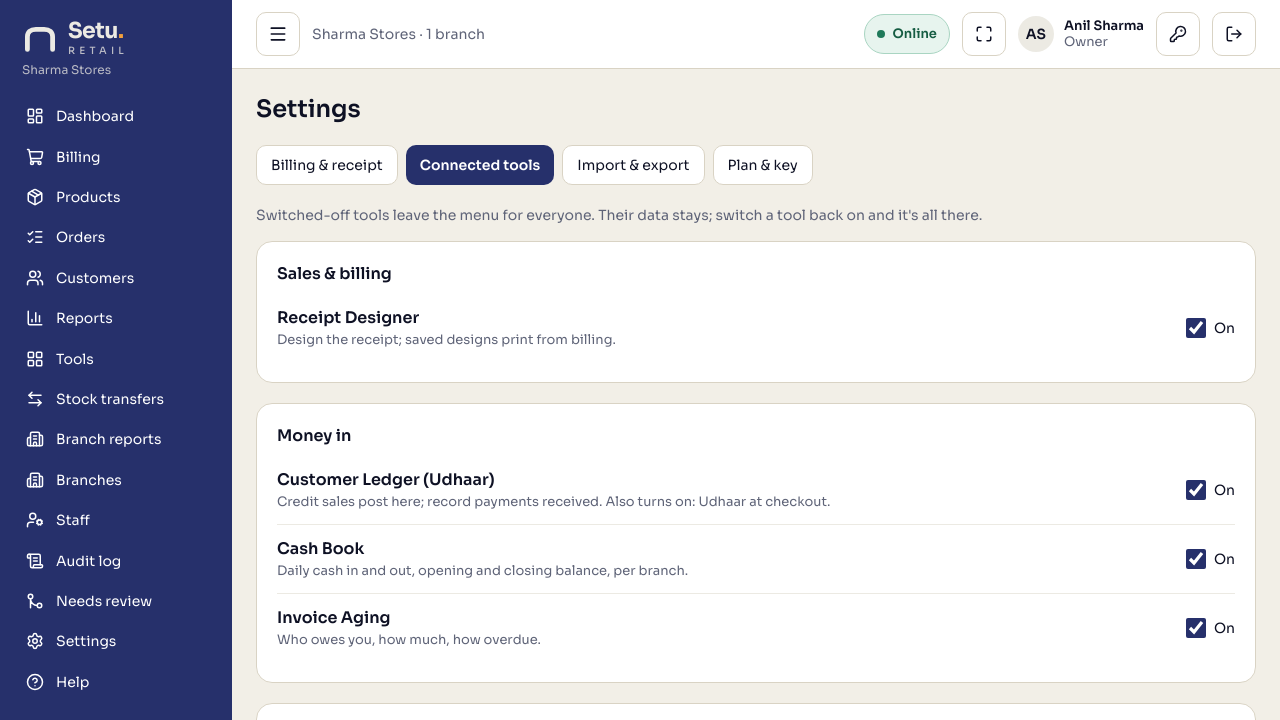
Test: connected tools › the owner switches a tool off in Settings and it leaves the hub
Click the switch named "Cash Book on" at (1196, 559), box [1186, 549, 1206, 569]
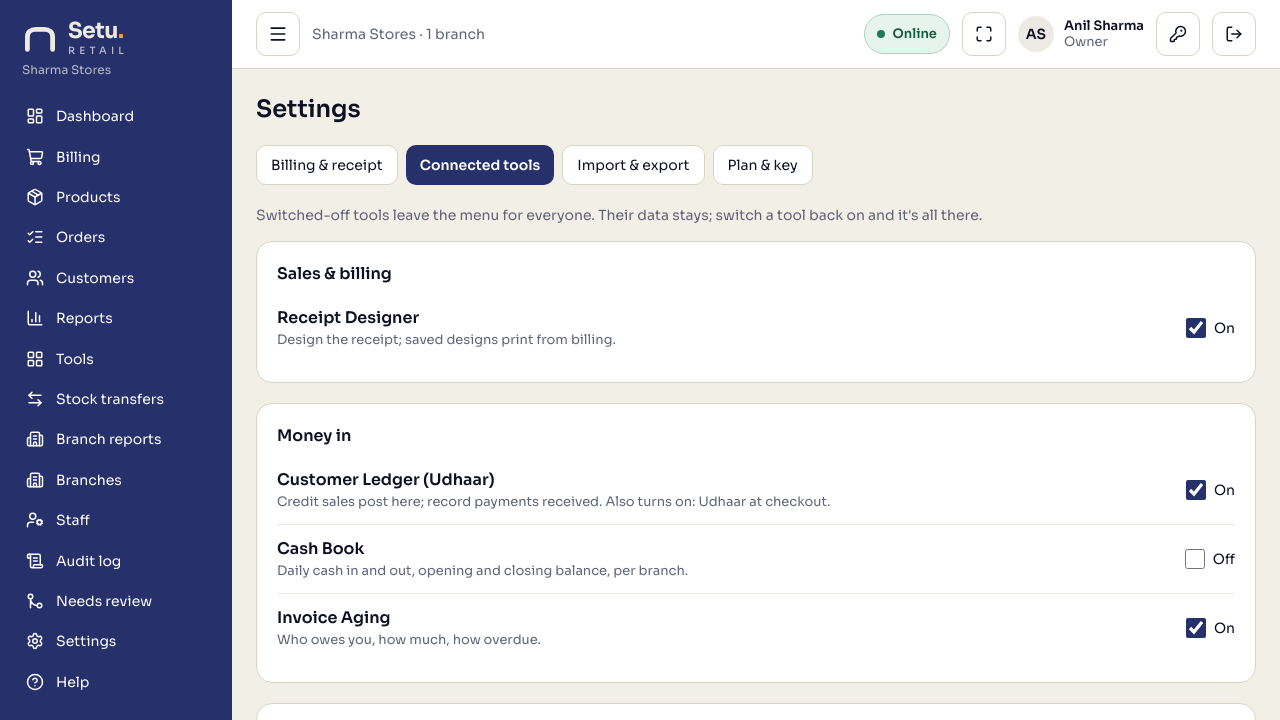
Expected: the switch named "Cash Book off" is not checked, [1185, 549, 1205, 569]
Click the link "Tools" at (60, 359), box [26, 350, 94, 368]
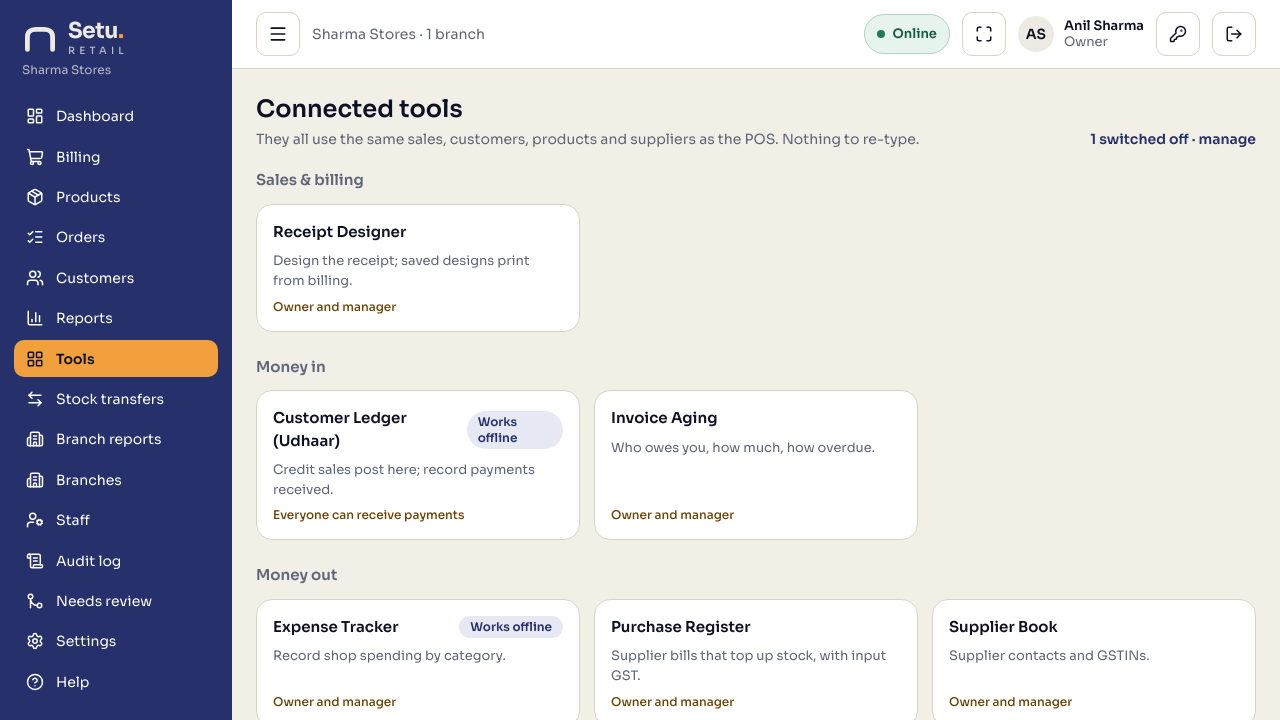
Expected: the text "Expense Tracker" is shown, [273, 616, 398, 638]
Expected: the text "Cash Book" is gone
